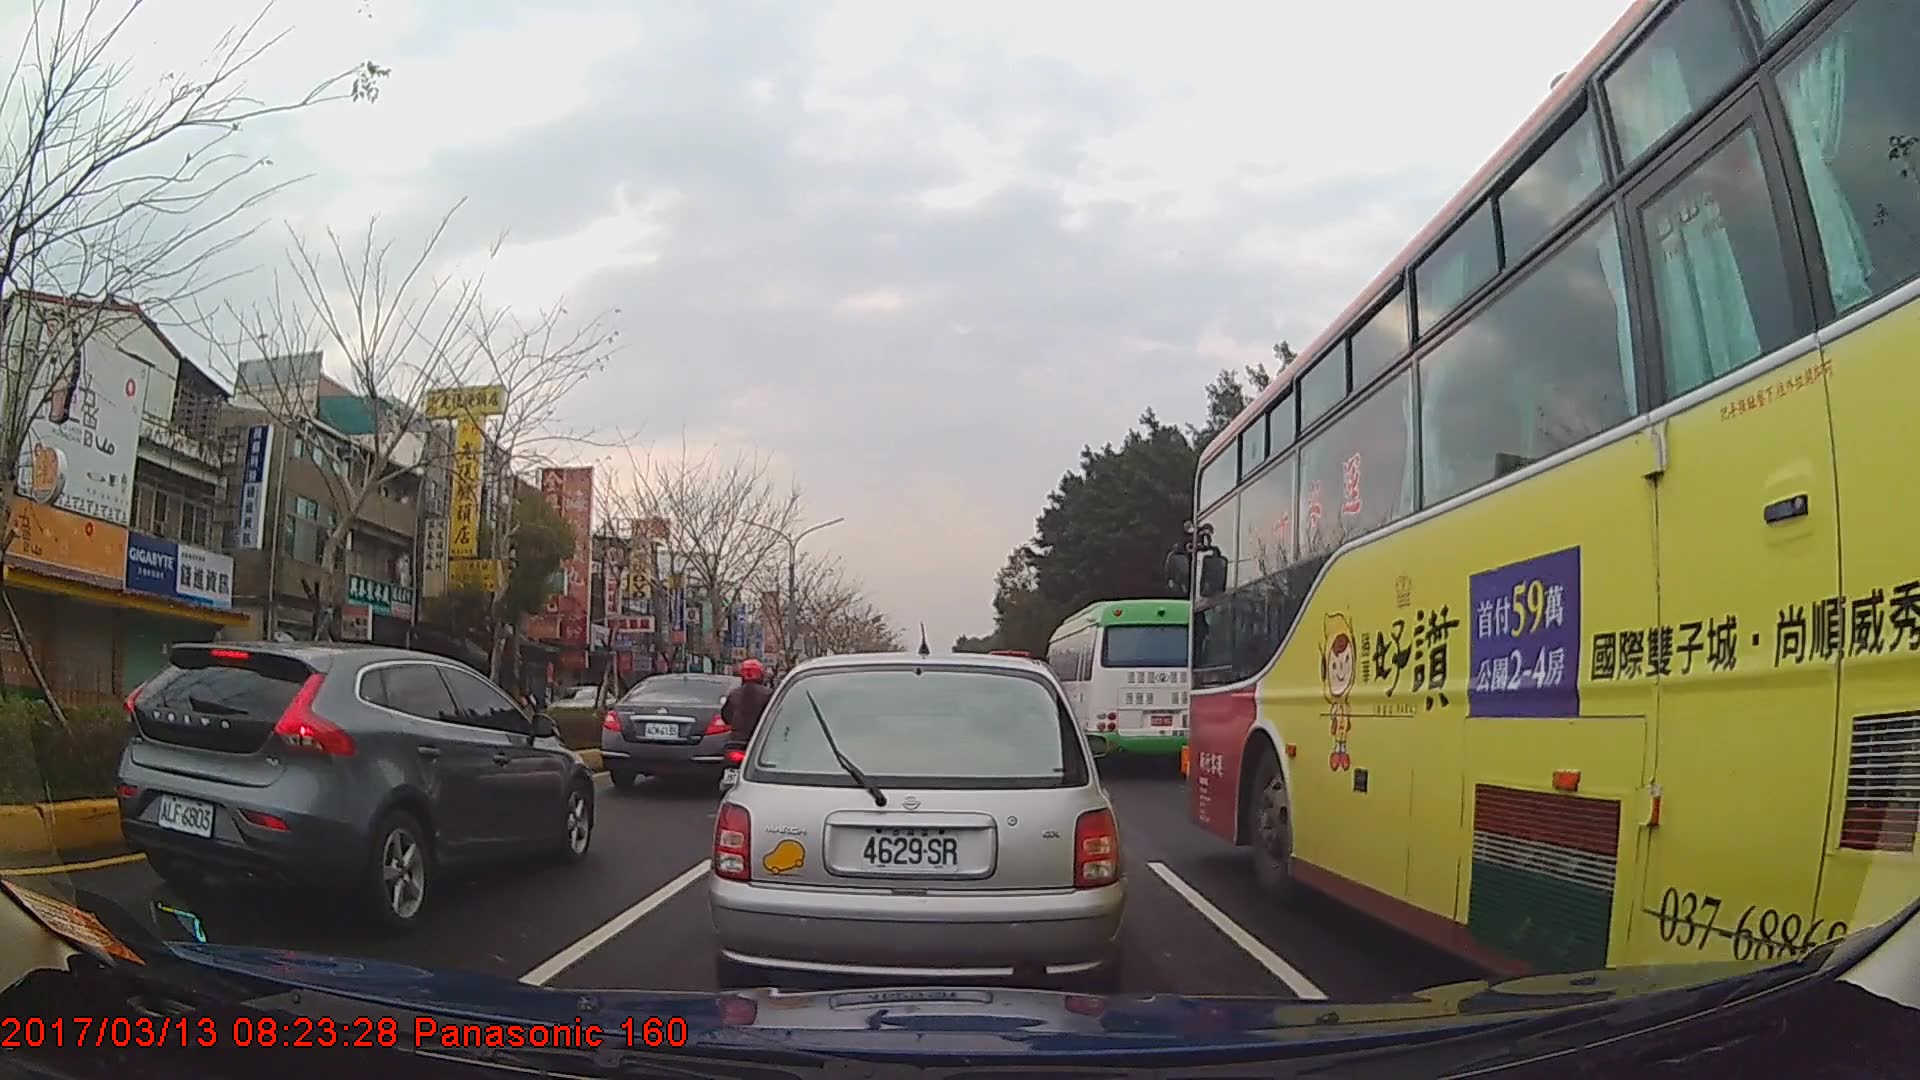rider: (720, 658, 789, 815)
vehicle: (1190, 0, 1920, 1019), (707, 648, 1126, 987), (110, 638, 592, 929), (1046, 599, 1202, 771), (600, 672, 767, 794), (545, 682, 616, 722)
